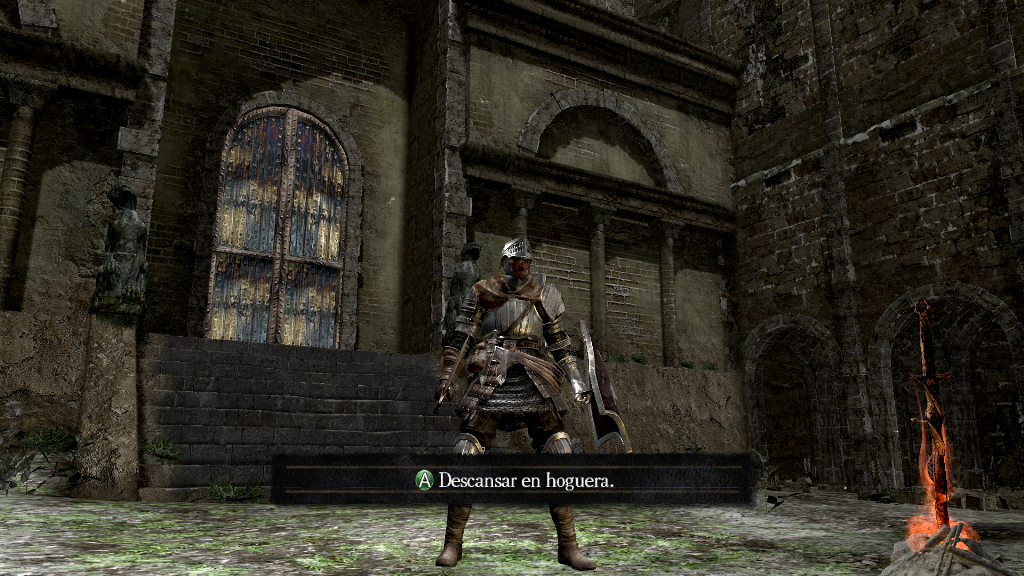bonfire: (886, 295, 1005, 570)
dialogBox: (272, 457, 751, 503)
player: (432, 234, 634, 570)
